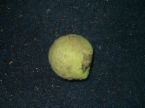tennis ball: (47, 32, 95, 80)
